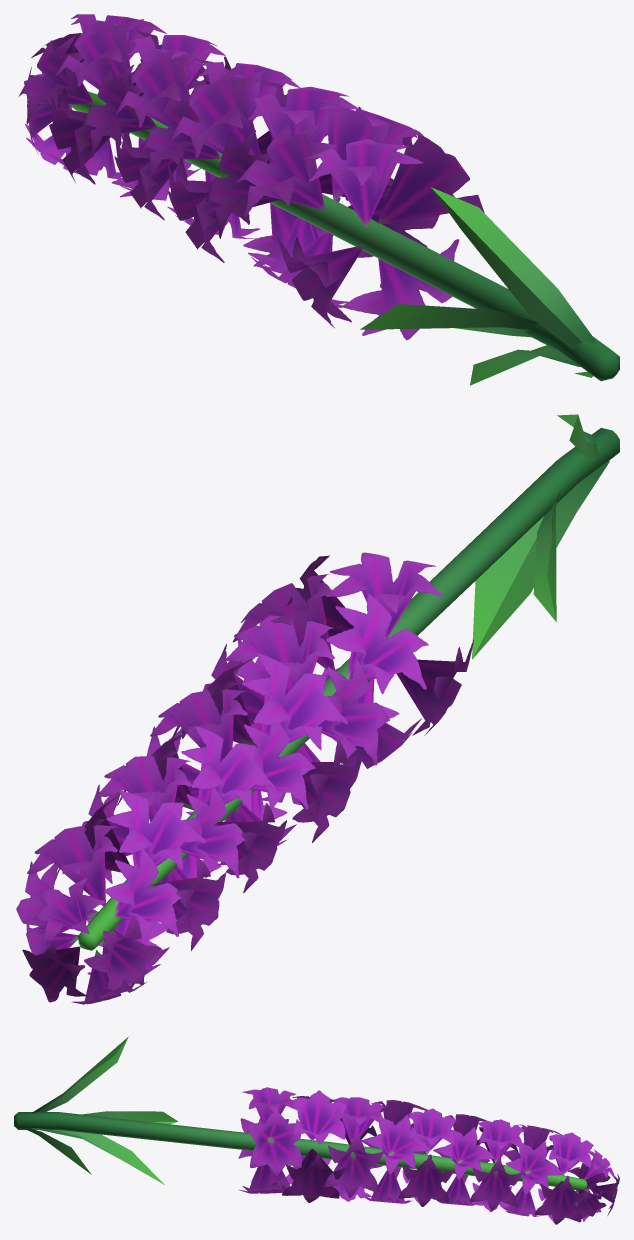
Rendered from SM_Hyacinth_Purple_Big.fbx.
3 views of the same model, one above another, from view 1: azimuth 30°, elevation 25°; view 2: azimuth 150°, elevation 25°; view 3: azimuth 270°, elevation 25° (orthographic). The views are drawn at different scales.
Parts seen in each view (by area): view 1: Hyacinth_Purple_Big; view 2: Hyacinth_Purple_Big; view 3: Hyacinth_Purple_Big.
Part boxes in pixels (<box>): Hyacinth_Purple_Big: <box>19,14,619,385</box>; Hyacinth_Purple_Big: <box>16,414,619,1004</box>; Hyacinth_Purple_Big: <box>14,1037,619,1224</box>.
Size of the model in its own units: 33.29 by 49.9 by 166.
